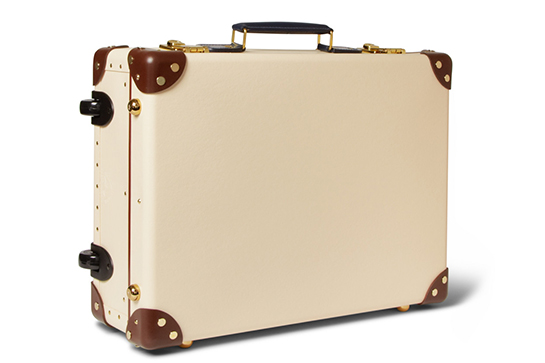shoutibox: (77, 19, 451, 357)
